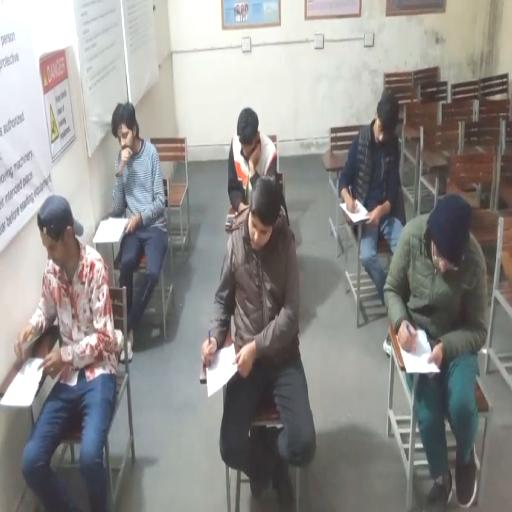paper: (0, 358, 46, 408), (400, 329, 442, 374), (205, 342, 239, 396), (92, 216, 130, 244), (341, 200, 370, 223)
